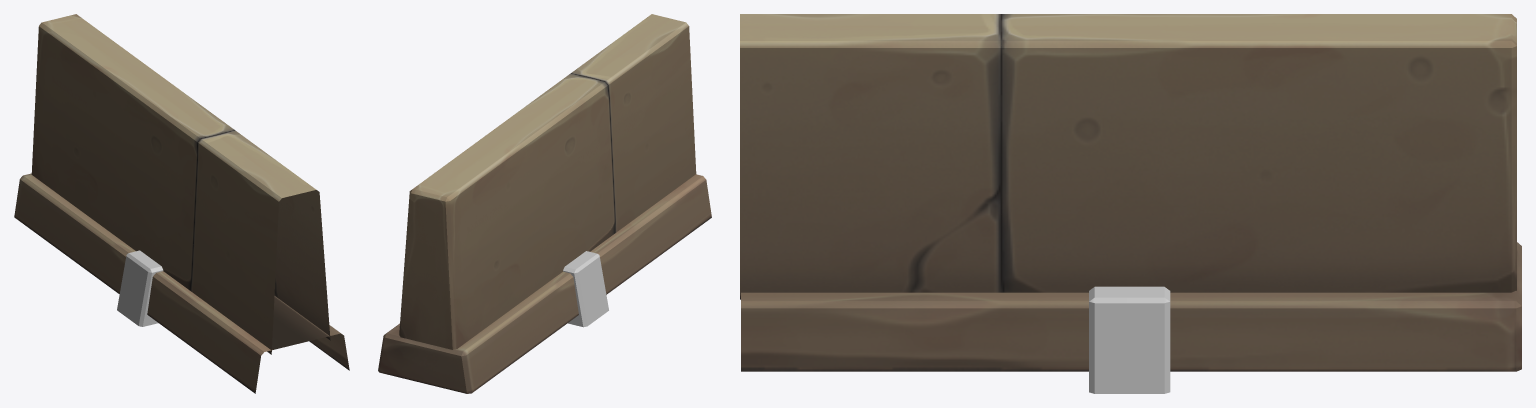
File: small_wall_02.fbx
3 renders of one model, left to right at view 1: azimuth 30°, elevation 25°; view 2: azimuth 150°, elevation 25°; view 3: azimuth 270°, elevation 25°, orthographic. The views are drawn at different scales.
Parts seen in each view (by area): view 1: wh_small_wall_02; view 2: wh_small_wall_02; view 3: wh_small_wall_02.
Part boxes in pixels (x1,y1,x2,y2): wh_small_wall_02: (14,14,349,393); wh_small_wall_02: (378,14,711,393); wh_small_wall_02: (740,14,1521,393).
Bounding box in the file's own units: 0.8511 × 1.53 × 3.37.
